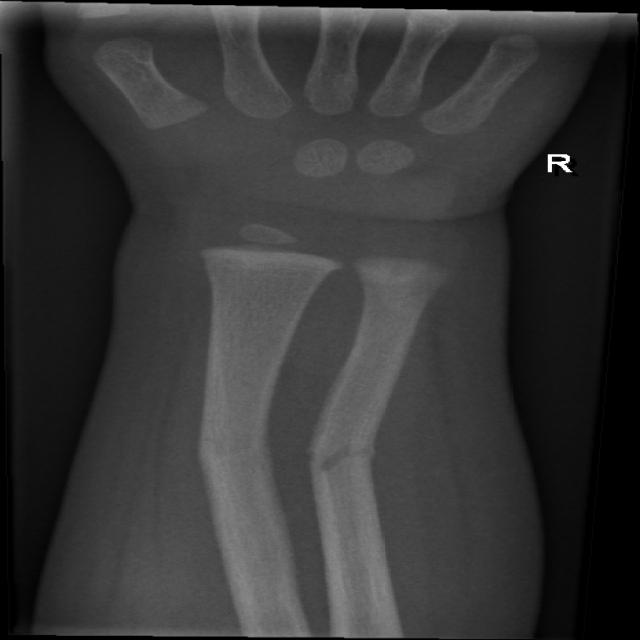radius fracture: (173, 370, 305, 550)
ulna fracture: (290, 378, 419, 539)
